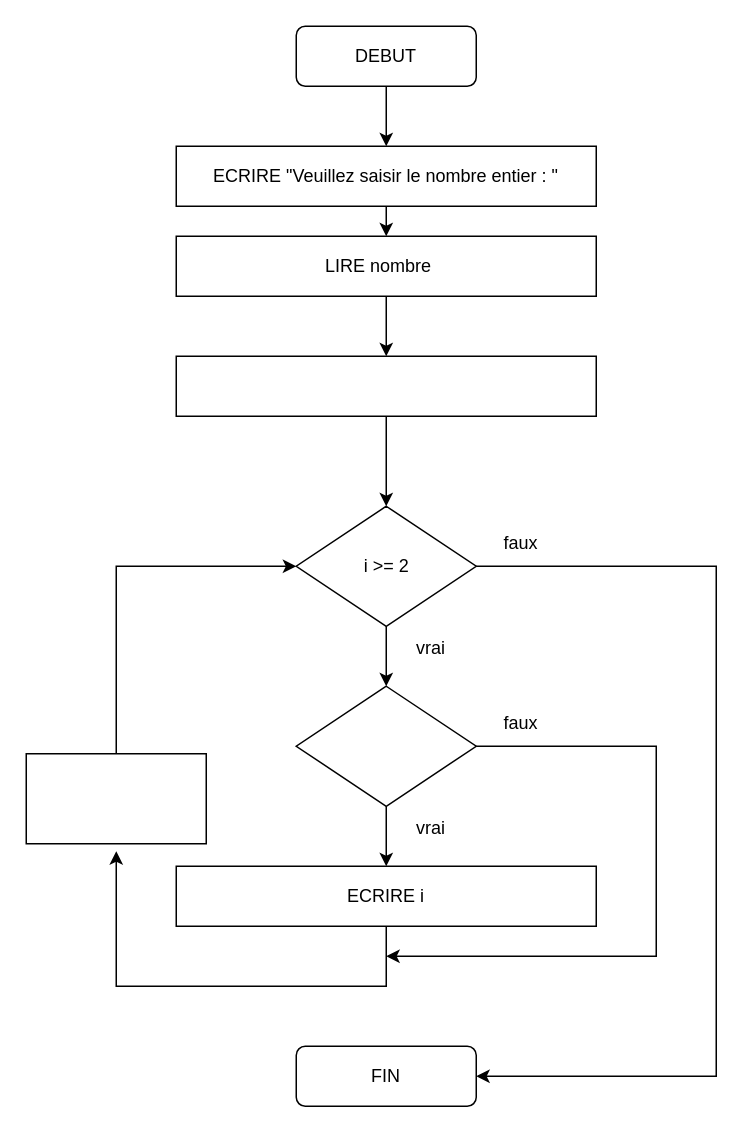
Some shapes in this 755 by 1133 pixel diagram are drawn without their labels. Here are the shapes that lost their labels. From the top down, the centre of each, then its label:
At (x=385, y=385): "i = nombre - 1".
At (x=385, y=745): "nombre mod i = 0".
At (x=115, y=798): "i = i -1".
